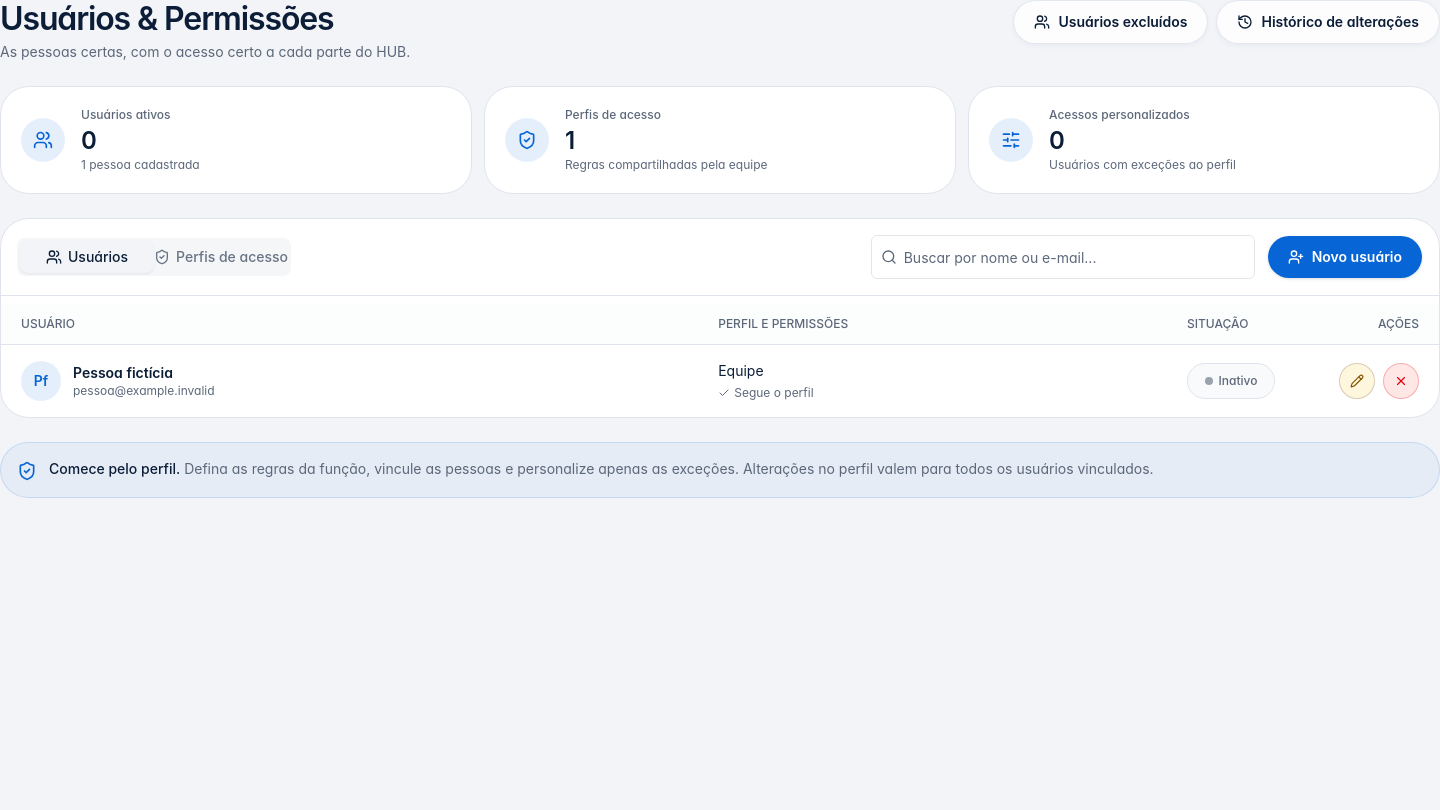
aba de atividades por usuário › consulta excluídos sob demanda, busca apenas ao confirmar e oferece somente Atividades
Click the button "Usuários excluídos": [1111, 22] box [1014, 0, 1208, 44]
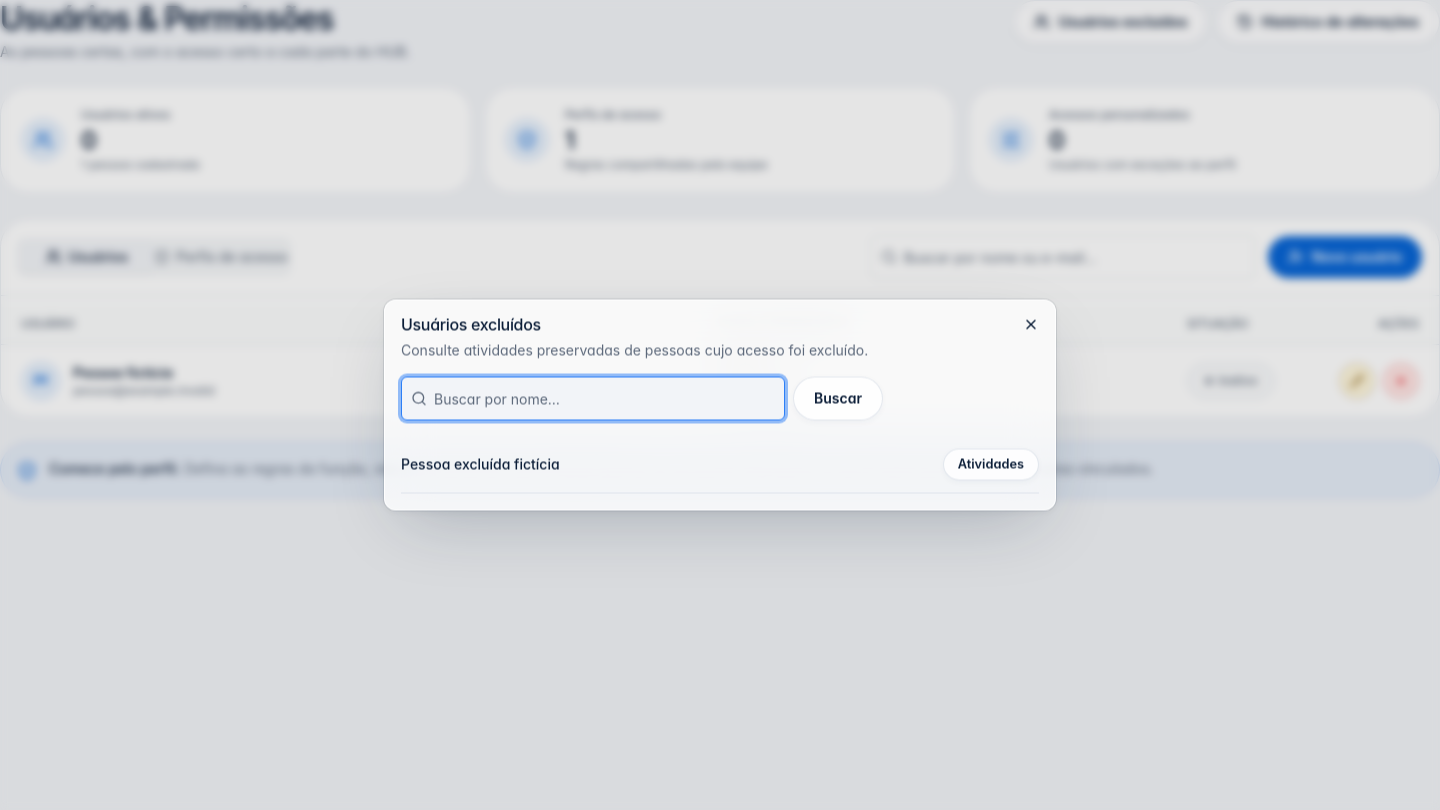
Result: the text "Pessoa excluída fictícia" is shown at [401, 454, 560, 474]
In the field named "Buscar usuários excluídos": [593, 398] box [401, 376, 785, 420], type "Pessoa"
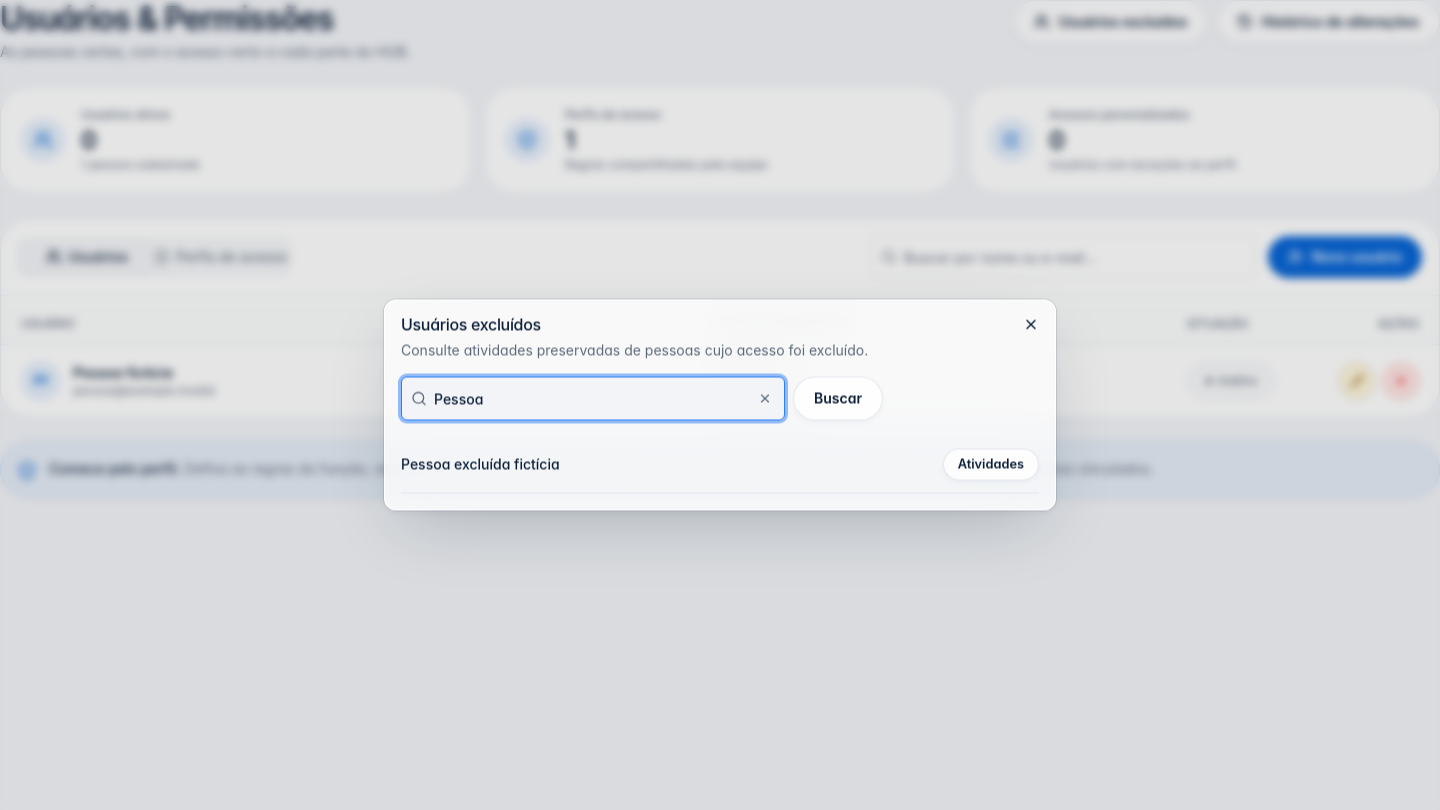
Click the button "Buscar": [838, 398] box [793, 376, 883, 420]
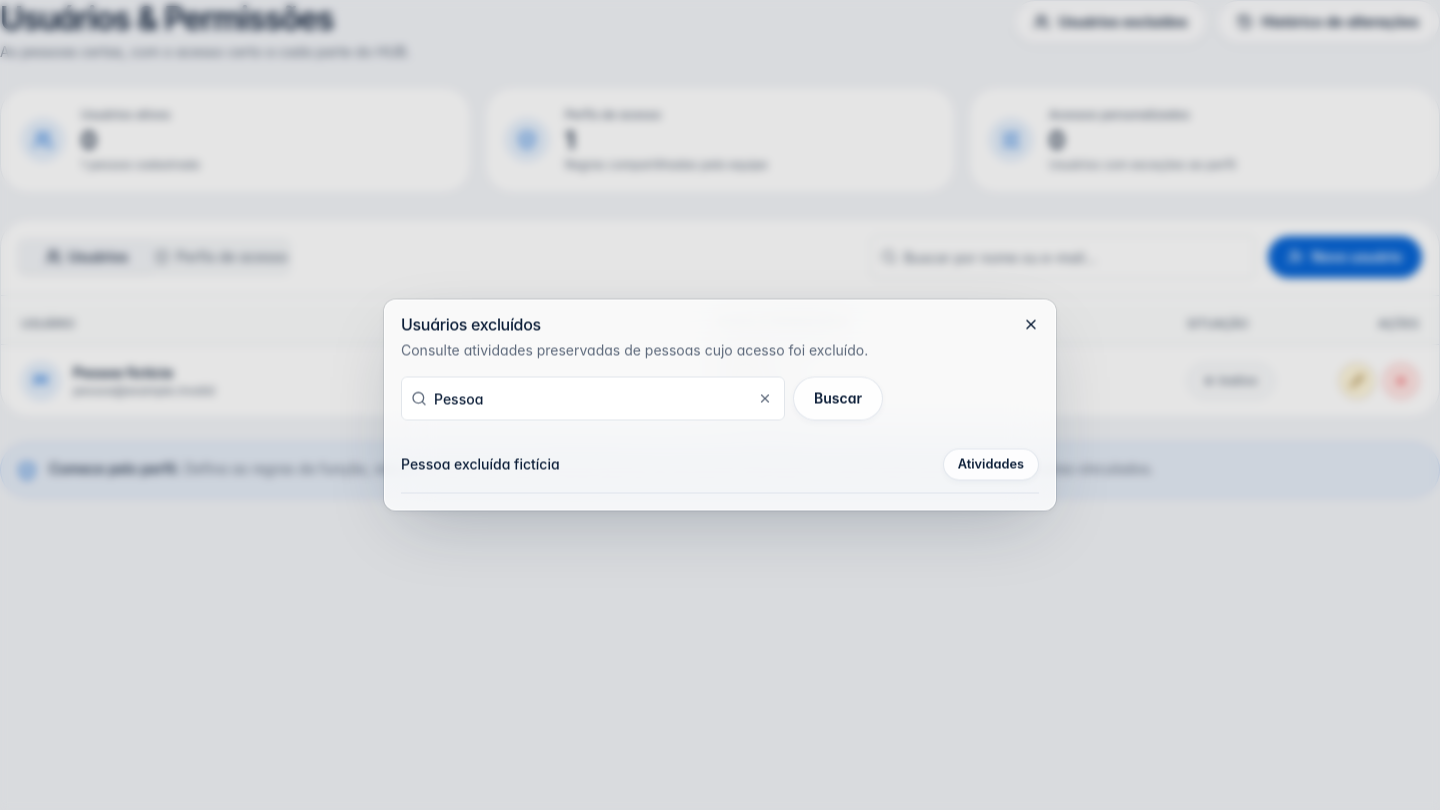
Click the button with aria-label "Atividades de Pessoa excluída fictícia": [991, 464] box [943, 448, 1039, 480]
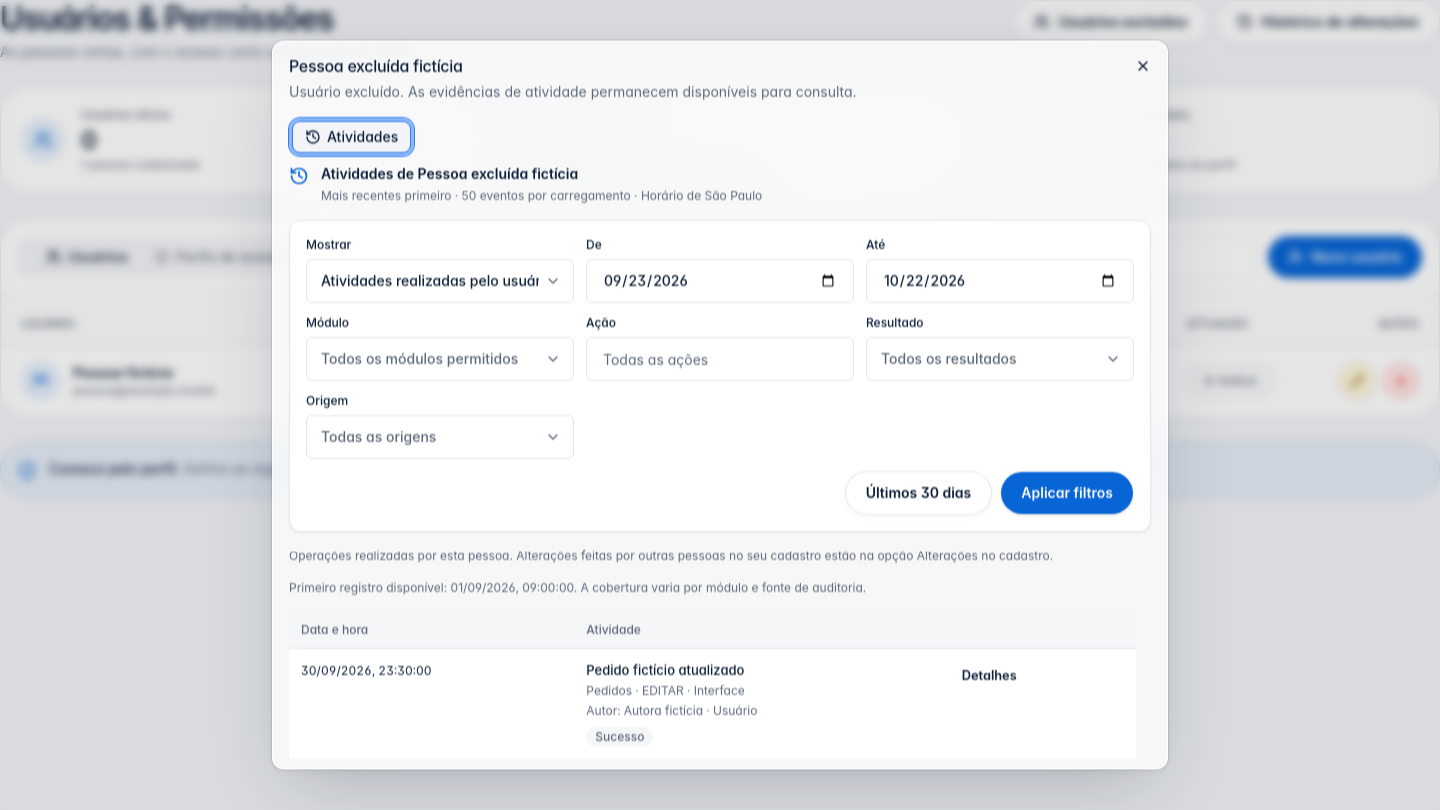
Result: the text "Pedido fictício atualizado" is shown at [586, 661, 744, 677]
Result: the tab "Atividades" is shown at [292, 120, 411, 152]
